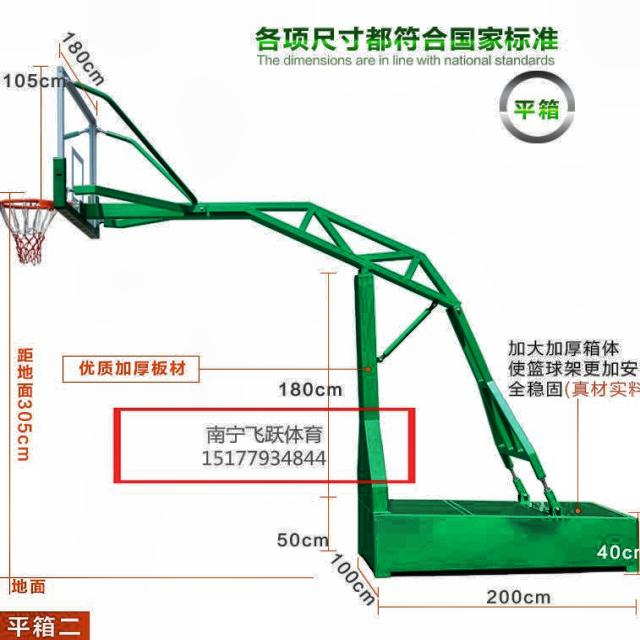rim: (0, 199, 57, 266)
